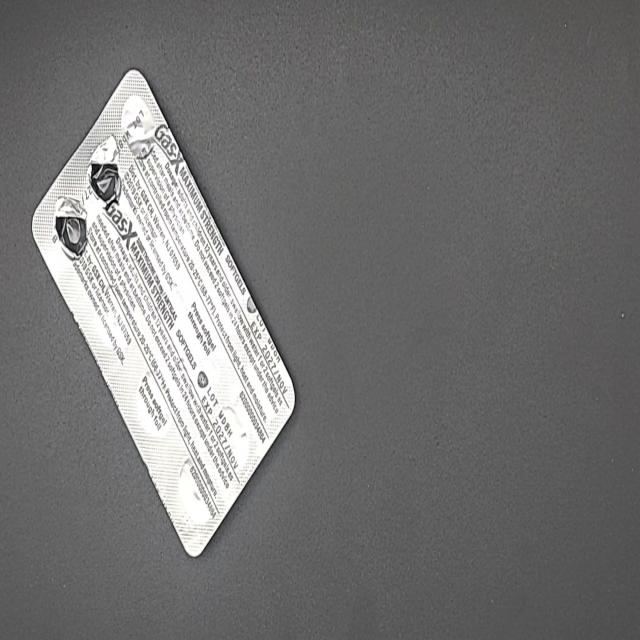defect: (86, 132, 124, 205), (52, 193, 90, 265)
